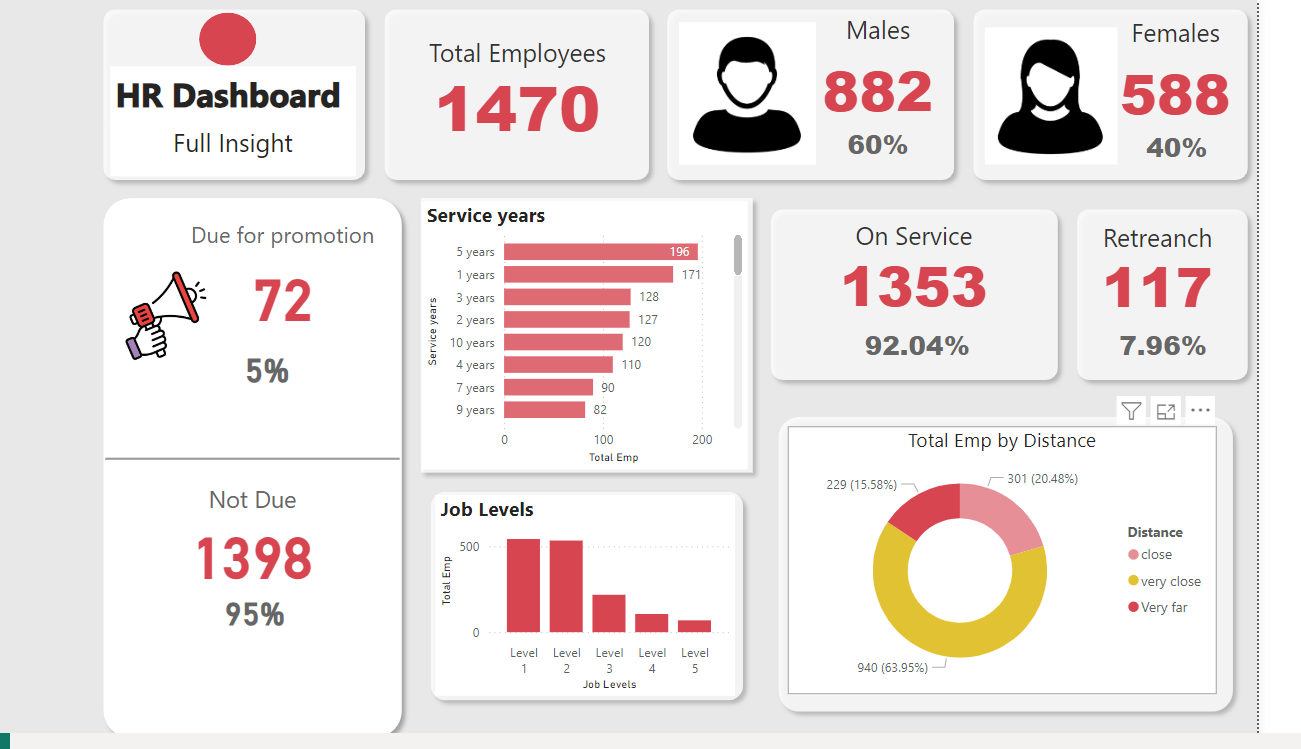

What the dashboard file says about the page in this screenshot:
{"tool":"powerbi","page":{"name":"Page 1","canvas":[1280,720],"ordinal":0},"visuals":[{"type":"shape","box":[159.5,0,270.3,182.4],"z":1000},{"type":"shape","box":[429.7,0,273,182.4],"z":2000},{"type":"shape","box":[702.7,0,294.6,182.4],"z":3000},{"type":"shape","box":[997.3,0,282.4,182.4],"z":4000},{"type":"shape","box":[159,182.2,305.7,538],"z":5000},{"type":"shape","box":[464.9,182.4,337.8,282.4],"z":6000},{"type":"shape","box":[474.3,464.9,318.9,218.9],"z":7000},{"type":"shape","box":[809.5,392.5,456.1,302],"z":8000},{"type":"shape","box":[802.7,193.2,294.6,182.4],"z":9000},{"type":"shape","box":[1097.3,193.2,182.4,182.4],"z":10000},{"type":"textbox","box":[174.3,116.2,236.5,54.1],"z":11000},{"type":"textbox","box":[174.3,63.5,236.5,58.1],"z":12000},{"type":"shape","box":[260.8,12.2,55.4,51.4],"z":13000},{"type":"card","title":"Total Employees","fields":{"Values":["All Measures.Total Emp"]},"box":[440.5,33.8,252.7,109.5],"z":14000},{"type":"card","title":"Males","fields":{"Values":["All Measures.Male"]},"box":[850,12.2,128.4,121.6],"z":15000},{"type":"card","title":"Males","fields":{"Values":["All Measures.% male"]},"box":[877,116.2,75.7,48.6],"z":16000},{"type":"card","title":"Females","fields":{"Values":["All Measures.Female"]},"box":[1137.8,14.6,128.4,121.6],"z":17000},{"type":"card","title":"Males","fields":{"Values":["All Measures.% female"]},"box":[1164.9,118.6,75.7,48.6],"z":18000},{"type":"image","box":[717.6,16.2,141.9,148.6],"z":19000},{"type":"image","box":[1012.2,21.6,139.2,141.9],"z":20000},{"type":"card","title":"Not Due","fields":{"Values":["All Measures.not due"]},"box":[170,464.7,283.7,110.1],"z":21000},{"type":"card","title":"Due for promotion","fields":{"Values":["All Measures.due for promotion"]},"box":[228.7,210.3,223.8,122.3],"z":22000},{"type":"card","title":"Not Due","fields":{"Values":["All Measures.% Not due"]},"box":[260.5,563.7,107.6,51.4],"z":23000},{"type":"card","title":"Not Due","fields":{"Values":["All Measures.% Due for promotion"]},"box":[265.4,324.1,121.1,61.1],"z":24000},{"type":"image","box":[179.9,246.9,98,112.9],"z":25000},{"type":"shape","box":[170,401.1,283.7,81.9],"z":26000},{"type":"clusteredBarChart","title":"Service years","fields":{"Category":["HR Analytics Data.Service years"],"Y":["All Measures.Total Emp"]},"box":[474.5,194.4,314.3,258],"z":27000},{"type":"clusteredColumnChart","title":"Job Levels","fields":{"Category":["HR Analytics Data.Job Levels"],"Y":["All Measures.Total Emp"]},"box":[487.9,476.9,288.6,193.2],"z":28000},{"type":"card","title":"Males","fields":{"Values":["All Measures.% On Service"]},"box":[882.9,308.2,139.4,50.1],"z":29000},{"type":"card","title":"On Service","fields":{"Values":["All Measures.On Service"]},"box":[827.9,210.3,243.3,99],"z":30000},{"type":"card","title":"Retreanch","fields":{"Values":["All Measures.Retreanch"]},"box":[1115.2,211.6,137,97.8],"z":31000},{"type":"card","title":"Males","fields":{"Values":["All Measures.% retreanch"]},"box":[1127.7,311.4,124.1,45.9],"z":32000},{"type":"donutChart","fields":{"Category":["HR Analytics Data.Distance"],"Y":["All Measures.Total Emp"]},"box":[827.9,410.9,413.3,259.2],"z":33000}]}

Visuals, with their boxes in screenshot pixels (x1, y1, x2, y2), scaled from the page's 1280x720 canvas onto the 1301x749 screenshot:
shape: (left=162, top=0, right=437, bottom=190)
shape: (left=437, top=0, right=714, bottom=190)
shape: (left=714, top=0, right=1014, bottom=190)
shape: (left=1014, top=0, right=1300, bottom=190)
shape: (left=162, top=190, right=472, bottom=748)
shape: (left=473, top=190, right=816, bottom=484)
shape: (left=482, top=484, right=806, bottom=711)
shape: (left=823, top=408, right=1286, bottom=722)
shape: (left=816, top=201, right=1115, bottom=391)
shape: (left=1115, top=201, right=1300, bottom=391)
textbox: (left=177, top=121, right=418, bottom=177)
textbox: (left=177, top=66, right=418, bottom=126)
shape: (left=265, top=13, right=321, bottom=66)
"Total Employees" card: (left=448, top=35, right=705, bottom=149)
"Males" card: (left=864, top=13, right=994, bottom=139)
"Males" card: (left=891, top=121, right=968, bottom=171)
"Females" card: (left=1156, top=15, right=1287, bottom=142)
"Males" card: (left=1184, top=123, right=1261, bottom=174)
image: (left=729, top=17, right=874, bottom=171)
image: (left=1029, top=22, right=1170, bottom=170)
"Not Due" card: (left=173, top=483, right=461, bottom=598)
"Due for promotion" card: (left=232, top=219, right=460, bottom=346)
"Not Due" card: (left=265, top=586, right=374, bottom=640)
"Not Due" card: (left=270, top=337, right=393, bottom=401)
image: (left=183, top=257, right=282, bottom=374)
shape: (left=173, top=417, right=461, bottom=502)
"Service years" clusteredBarChart: (left=482, top=202, right=802, bottom=471)
"Job Levels" clusteredColumnChart: (left=496, top=496, right=789, bottom=697)
"Males" card: (left=897, top=321, right=1039, bottom=373)
"On Service" card: (left=841, top=219, right=1089, bottom=322)
"Retreanch" card: (left=1133, top=220, right=1273, bottom=322)
"Males" card: (left=1146, top=324, right=1272, bottom=372)
donutChart - HR Analytics Data.Distance x All Measures.Total Emp: (left=841, top=427, right=1262, bottom=697)
